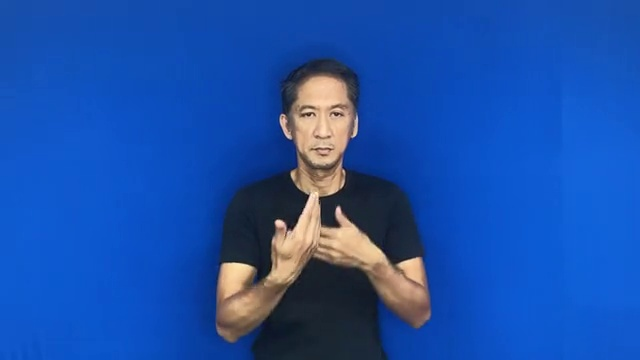bread: (262, 186, 376, 296)
